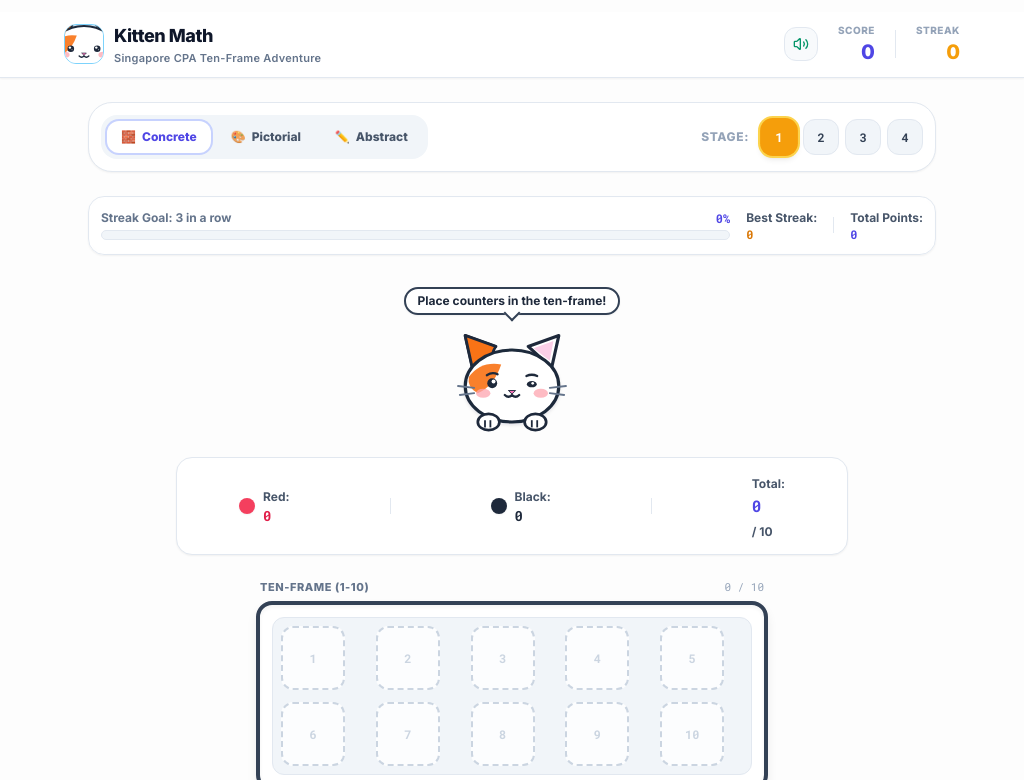
Scenario: App Integration › allows placing and removing counters in Concrete mode
Click the button named "Slot 1: empty".
click(313, 658)  # box [281, 626, 345, 690]
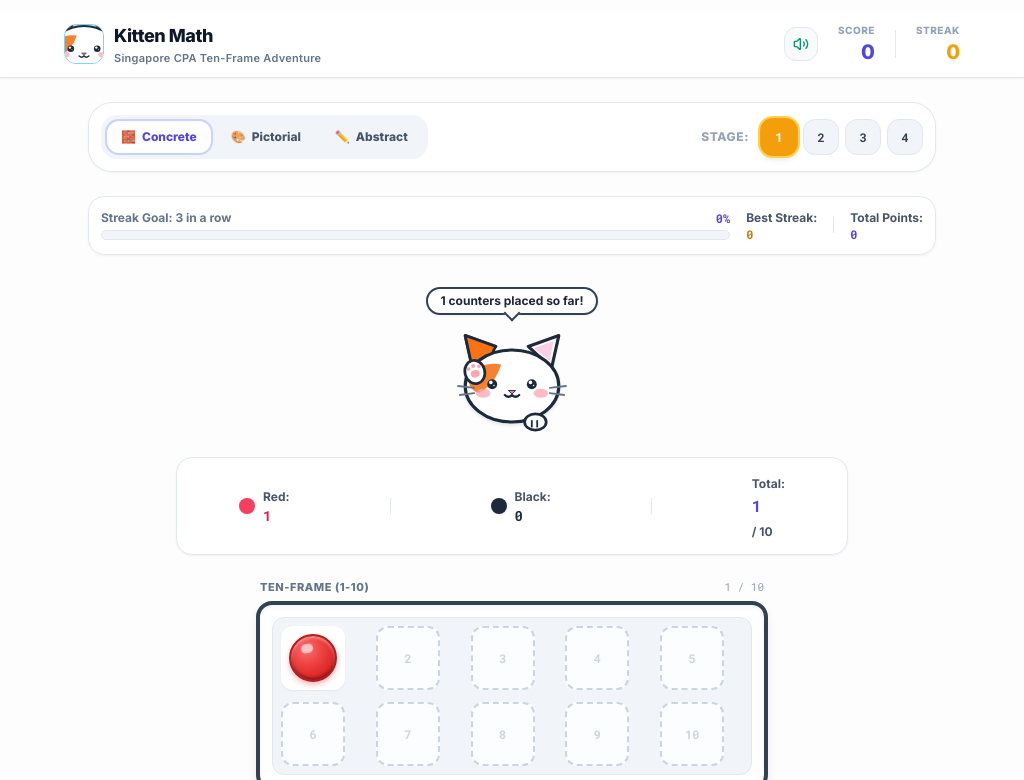
Result: the button named "Slot 1: red" is shown
Note: Clicking slot 1 again removes the counter
Click the button named "Slot 1: red".
click(313, 658)  # box [281, 626, 345, 690]
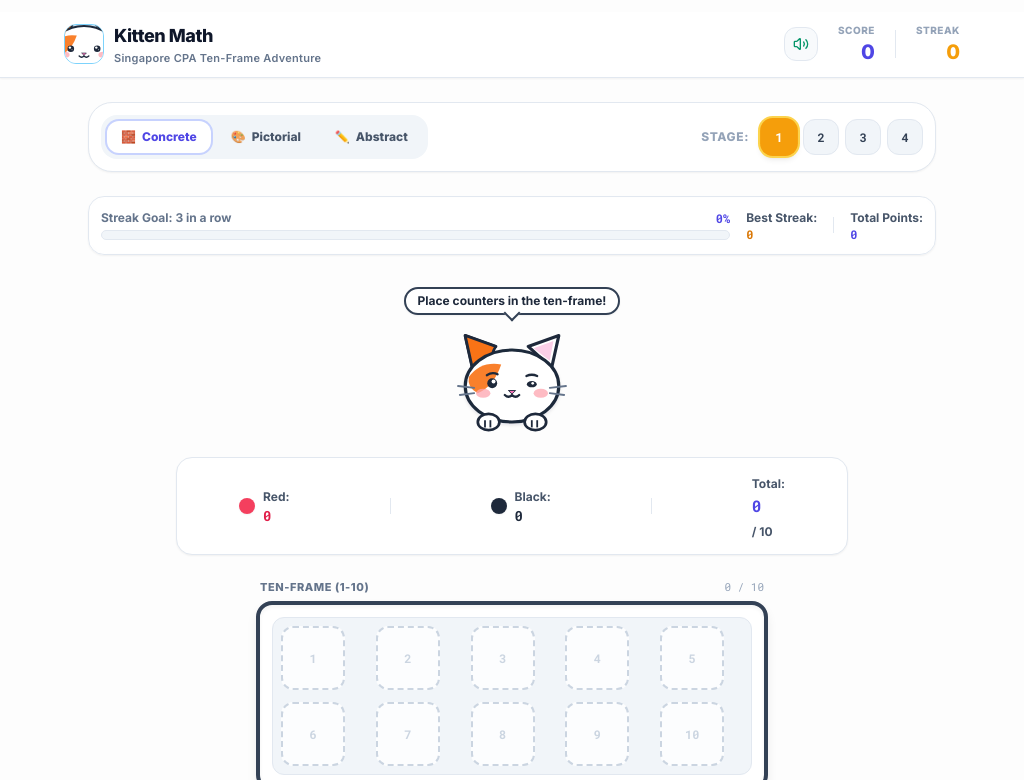
Result: the button named "Slot 1: empty" is shown at [281, 626, 345, 690]
